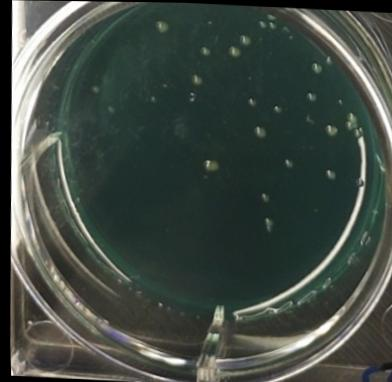vangil: (198, 152, 221, 173), (149, 15, 171, 34), (251, 121, 271, 139), (342, 109, 359, 126), (280, 154, 297, 170), (188, 69, 205, 85), (308, 58, 324, 74), (322, 121, 340, 135), (196, 41, 213, 55), (323, 162, 337, 178), (258, 189, 273, 203), (259, 216, 273, 231), (225, 42, 239, 56), (244, 93, 258, 106), (349, 124, 362, 137), (239, 31, 250, 45), (352, 174, 366, 185), (269, 101, 281, 112), (306, 91, 318, 101), (267, 19, 277, 27)
